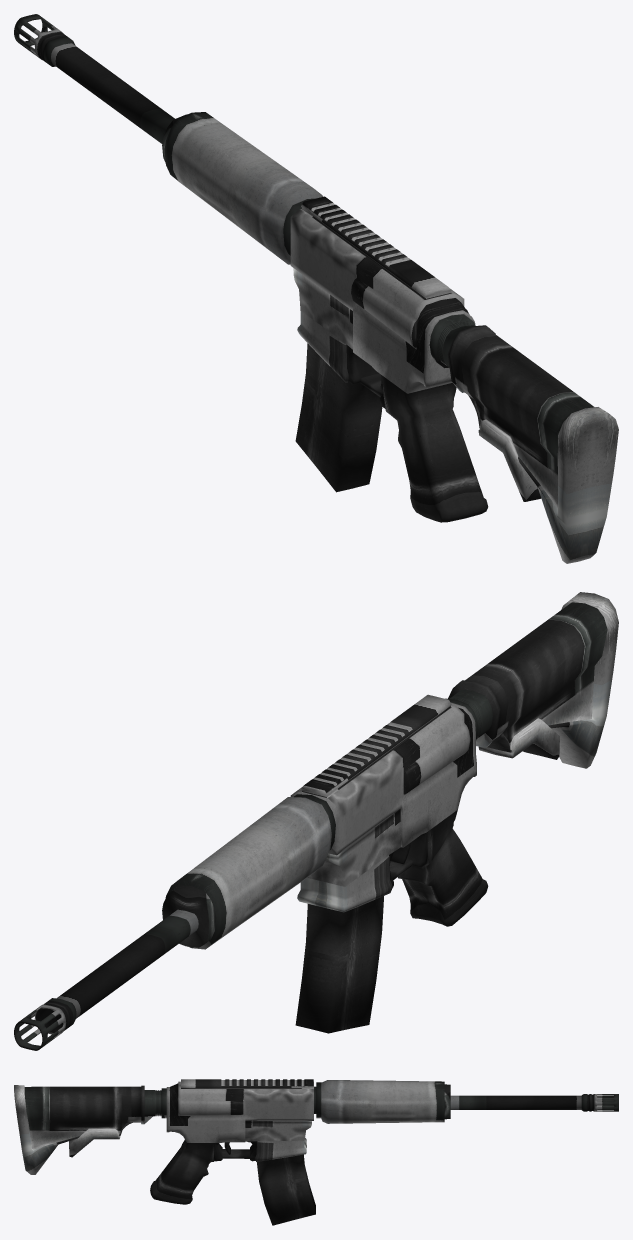
Rendered from AssaultRifle.fbx.
3 views of the same model, one above another, from view 1: azimuth 30°, elevation 25°; view 2: azimuth 150°, elevation 25°; view 3: azimuth 270°, elevation 25° (orthographic). The views are drawn at different scales.
Visible parts, largest first — view 1: AssaultRifle; view 2: AssaultRifle; view 3: AssaultRifle.
Part boxes in pixels (box(x1,y1,x2,y2)): AssaultRifle: box(14, 14, 618, 563); AssaultRifle: box(14, 592, 618, 1050); AssaultRifle: box(14, 1079, 618, 1225).
Size of the model in its own units: 0.0682 by 0.2888 by 1.13.
